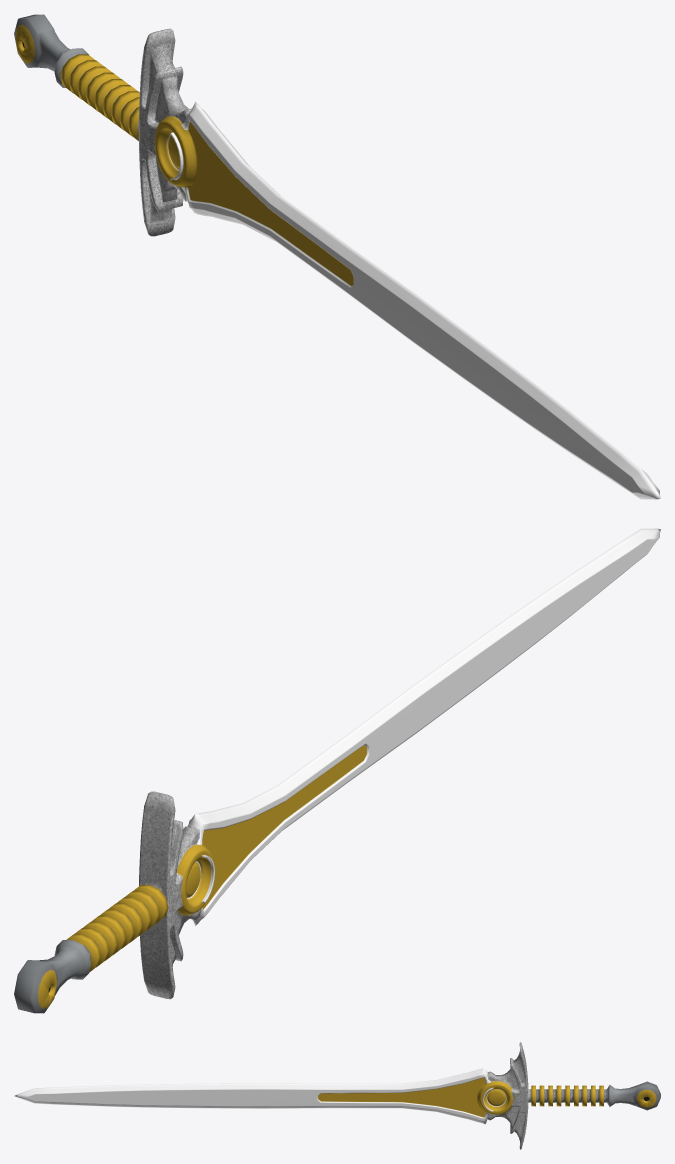
The model's file is sword.glb.
3 renders of one model, top to bottom at view 1: azimuth 30°, elevation 25°; view 2: azimuth 150°, elevation 25°; view 3: azimuth 270°, elevation 25°, orthographic. The views are drawn at different scales.
Visible parts, largest first — view 1: sword; view 2: sword; view 3: sword.
Part boxes in pixels (left/top/right/bottom): sword: left=14, top=14, right=660, bottom=499; sword: left=14, top=528, right=660, bottom=1013; sword: left=14, top=1042, right=660, bottom=1149.
Size of the model in its own units: 0.1224 by 0.6481 by 3.69.
1 material, 1 textured.
